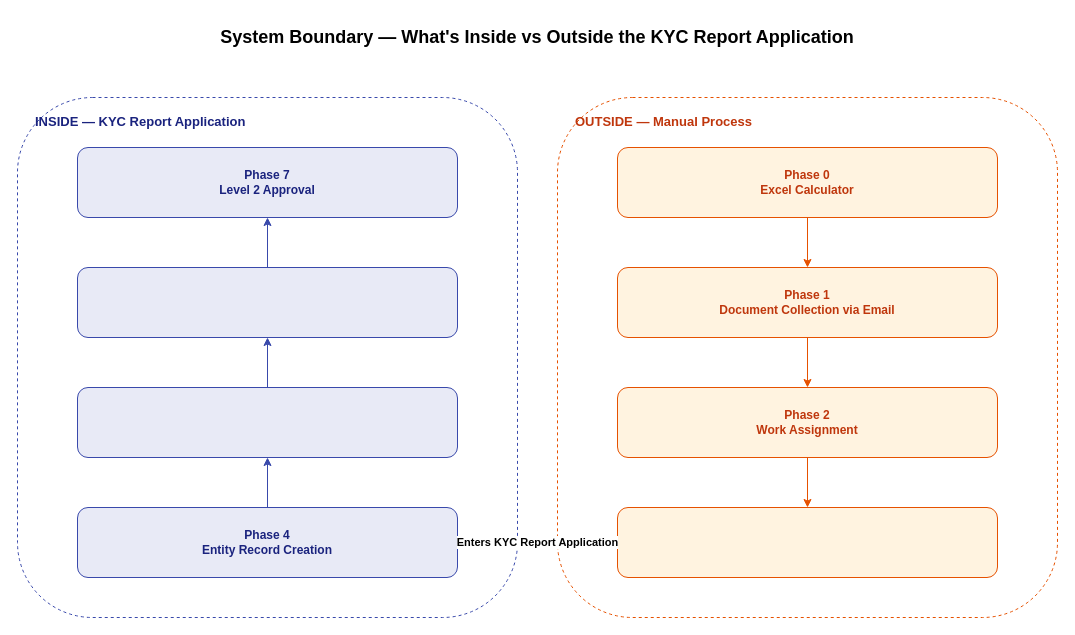
This 1075x635 diagram has some shape labels left out. The shapes that lost their labels are listed below. From the top down, each one's centre as x and y in pixels, then its label:
At point (267, 302): "Phase 6 Level 1 Approval".
At point (267, 422): "Phase 5 KYC Report Creation".
At point (807, 542): "Phase 3 WorldCheck Due Diligence".
